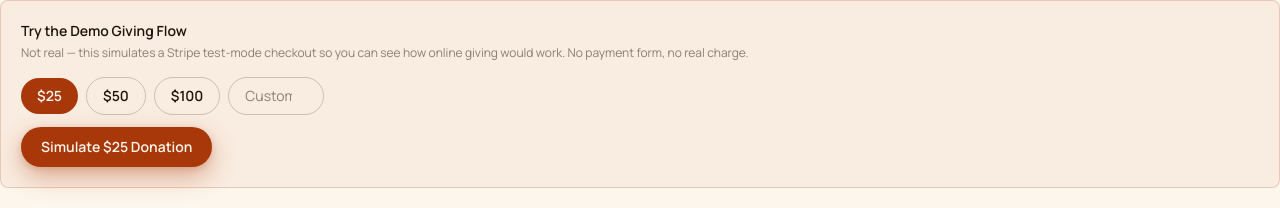
Scenario: DemoDonationForm › uses a custom amount over the presets when entered
The width and height of the screenshot is (1280, 208).
In the number field named "Custom amount": (276, 96) [228,77,324,115], type "77"
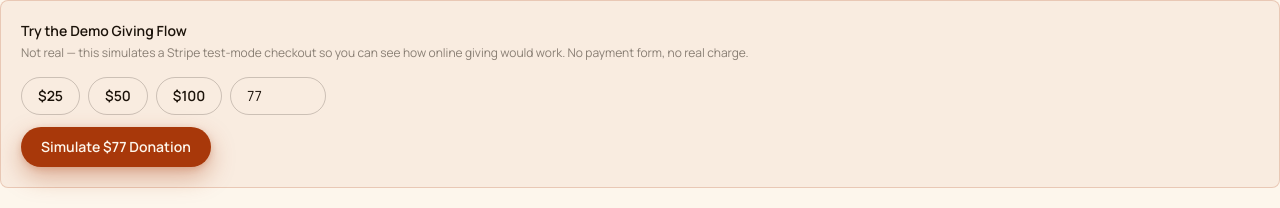
Now the button "Simulate $77 Donation" is shown, box [21,127,211,167]
